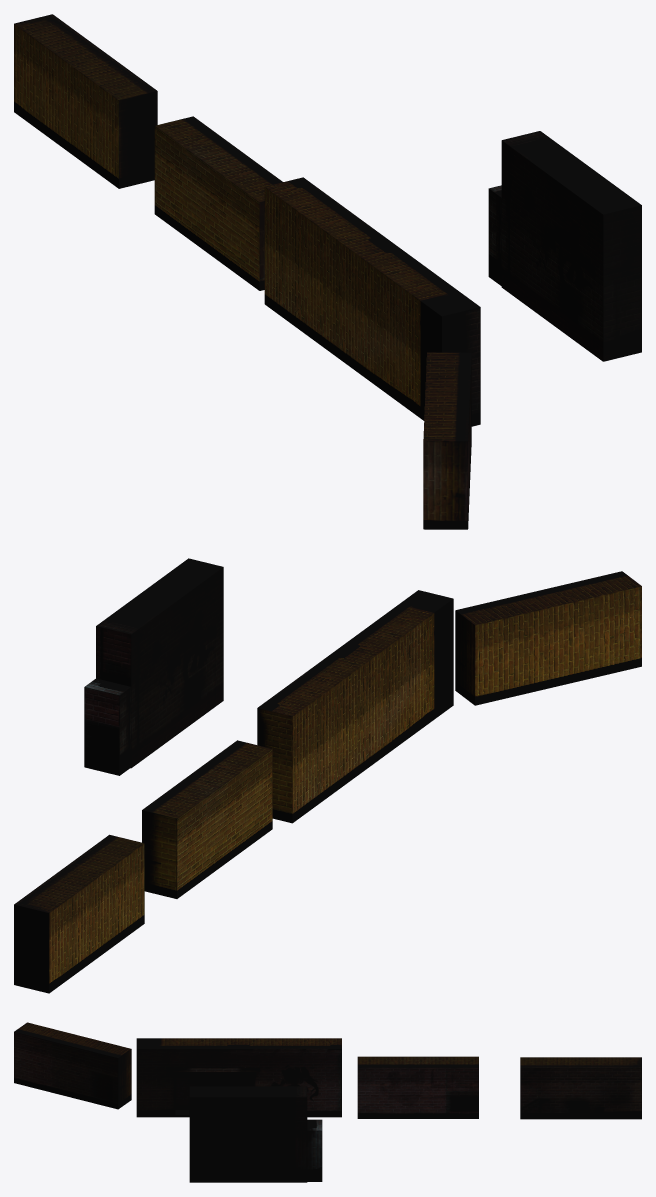
3 renders of one model, top to bottom at view 1: azimuth 30°, elevation 25°; view 2: azimuth 150°, elevation 25°; view 3: azimuth 270°, elevation 25°, orthographic. The views are drawn at different scales.
Parts seen in each view (by area): view 1: wall1; view 2: wall1; view 3: wall1.
Boxes of the visible parts, <box> form: wall1: <box>14,14,641,529</box>; wall1: <box>14,558,641,993</box>; wall1: <box>14,1022,641,1182</box>.
Size of the model in its own units: 18.53 by 7.26 by 48.51.
1 material, 1 textured.
